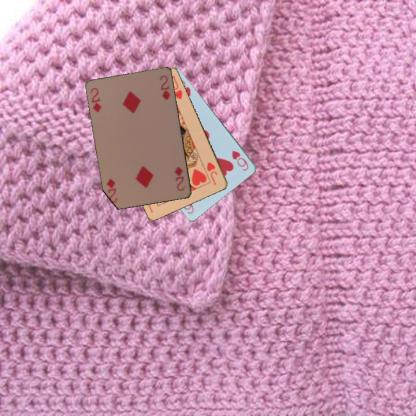2d: (88, 85, 103, 114), (172, 164, 186, 192)
6h: (228, 148, 249, 172)
Jh: (204, 160, 218, 186)
